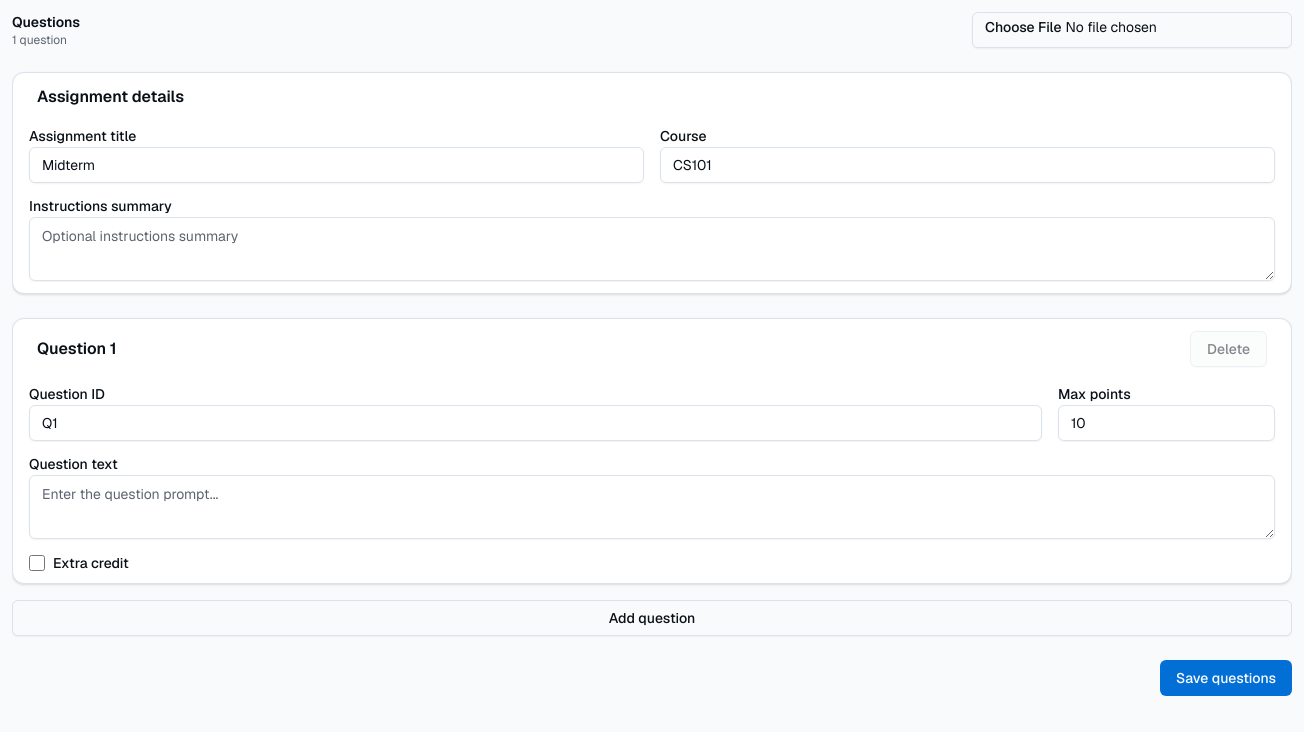
Test case: extra-credit checkbox › toggling the checkbox updates the checked state
Click the checkbox labelled "Extra credit" at [37, 563], box x1=29 y1=555 x2=45 y2=571
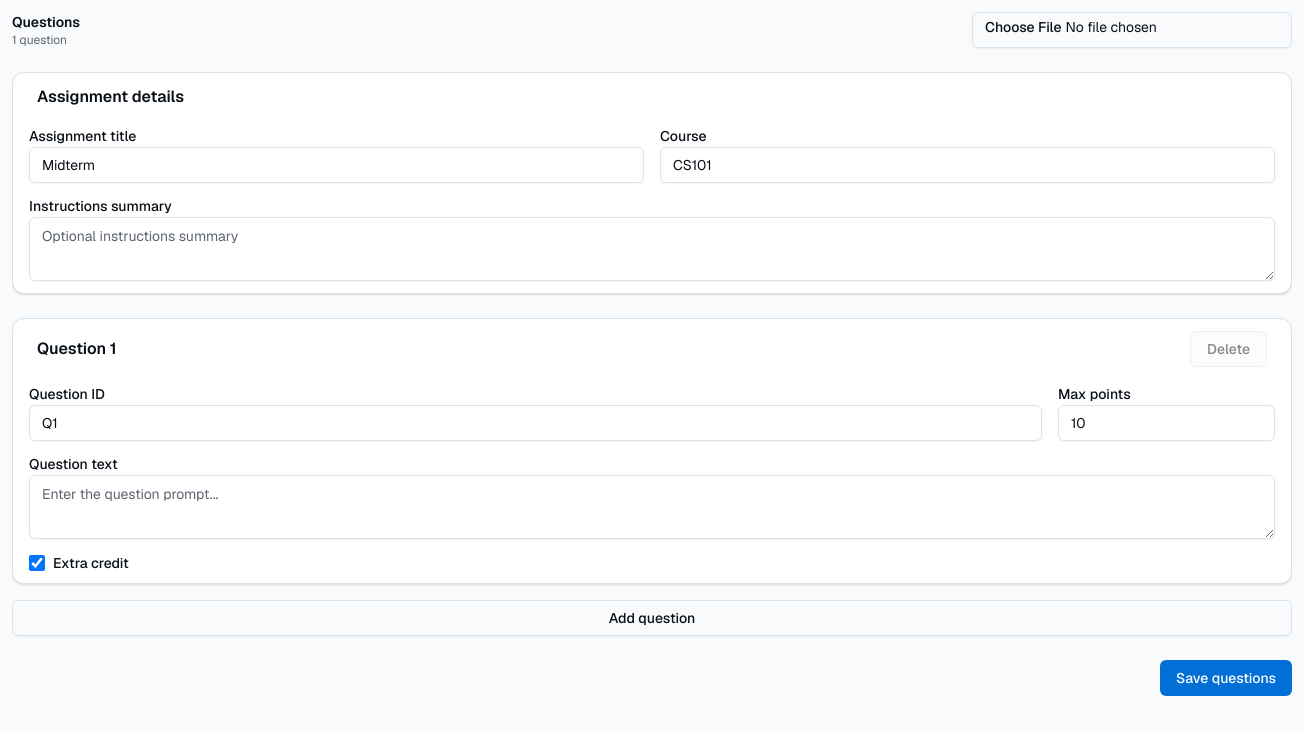
Expected: the checkbox labelled "Extra credit" is checked, x1=29 y1=555 x2=45 y2=571
